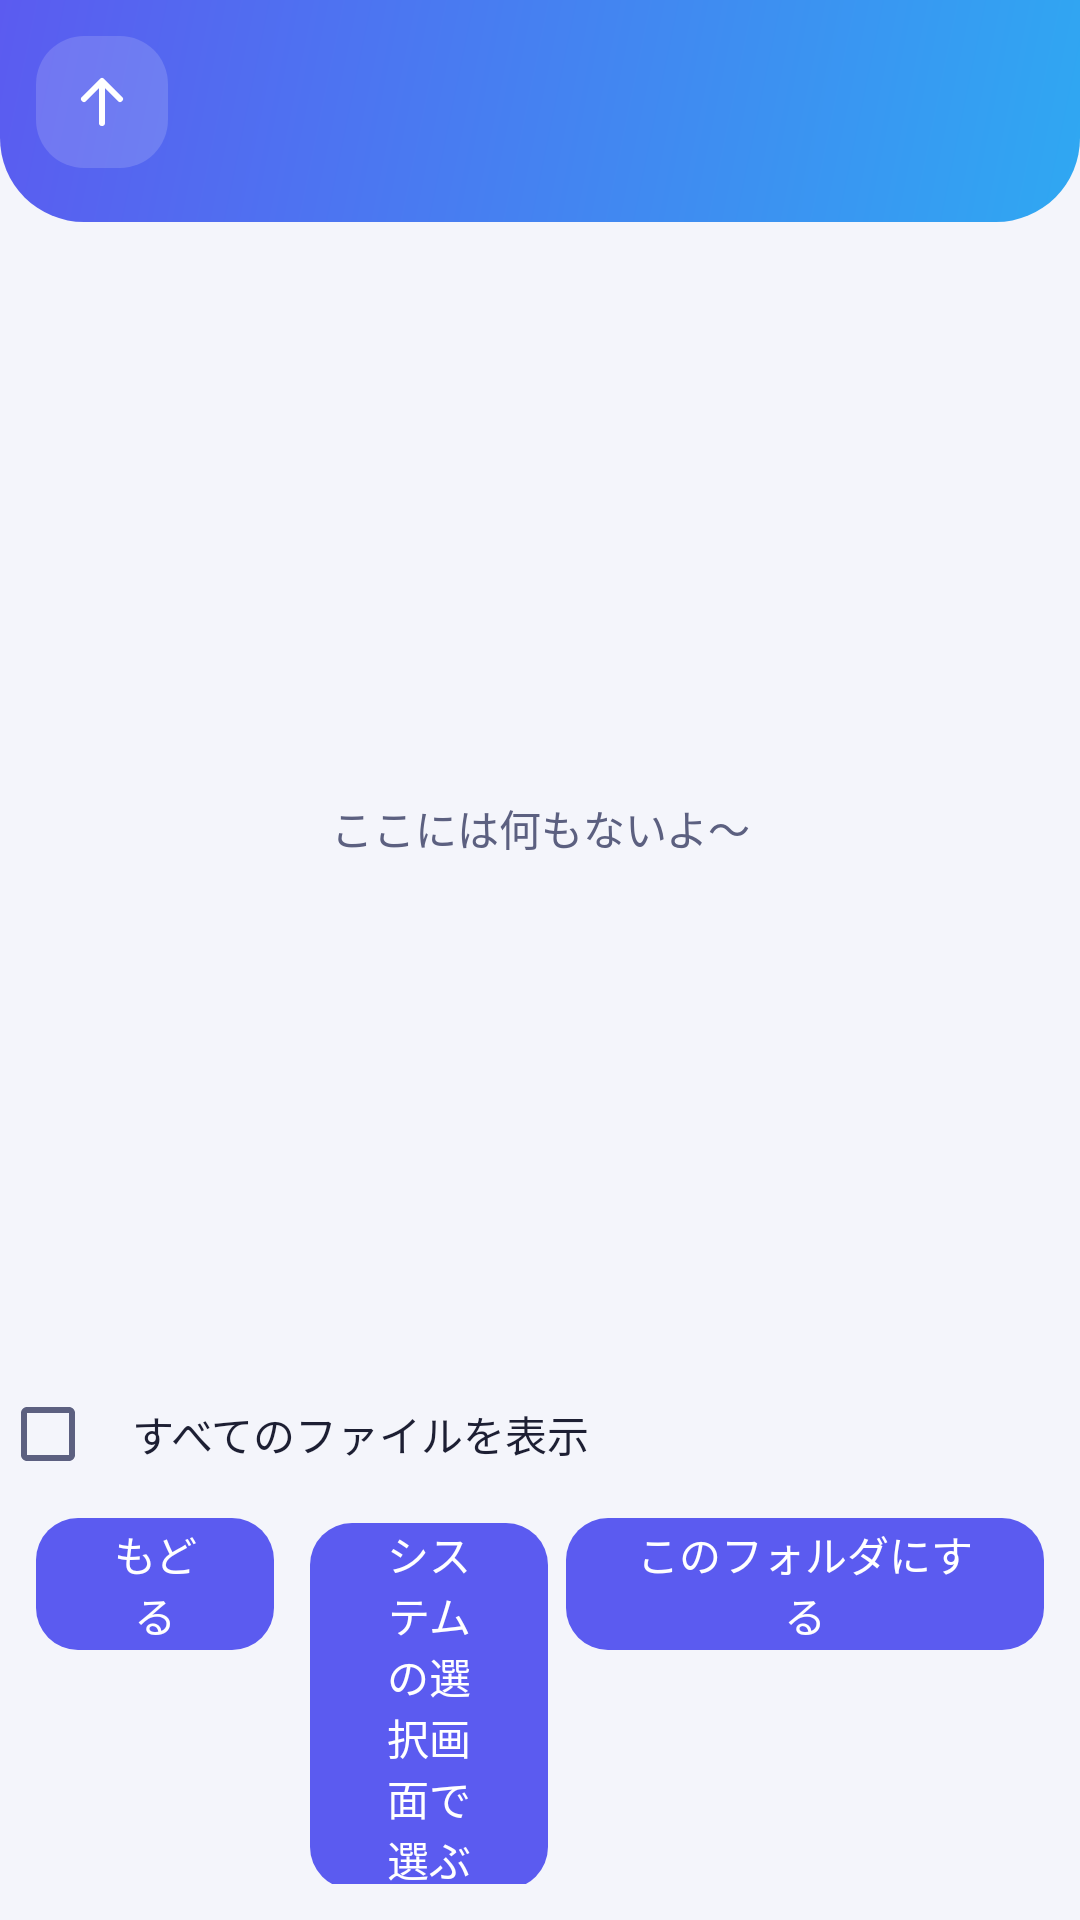

Icons on this 1080px x 1920px Android screen, each with the point to tap as (x,y):
ひとつ上へ: (102,102)
